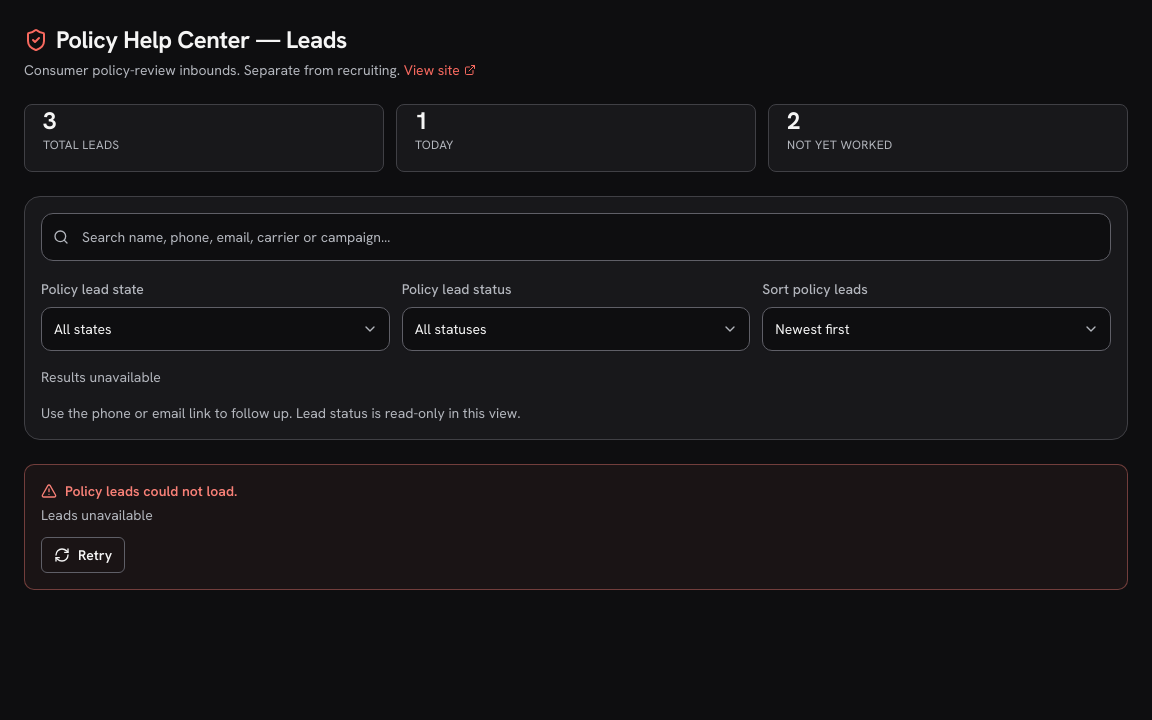
Test case: consumer policy lead worklist › reserves the real empty state for a successful empty read and retries a failed lead read
Expected: the text "Leads unavailable" is shown, [41,506,153,524]
Expected: the text "No policy-review leads yet" is not shown
Click the button "Retry": (83, 555) [41,537,125,573]
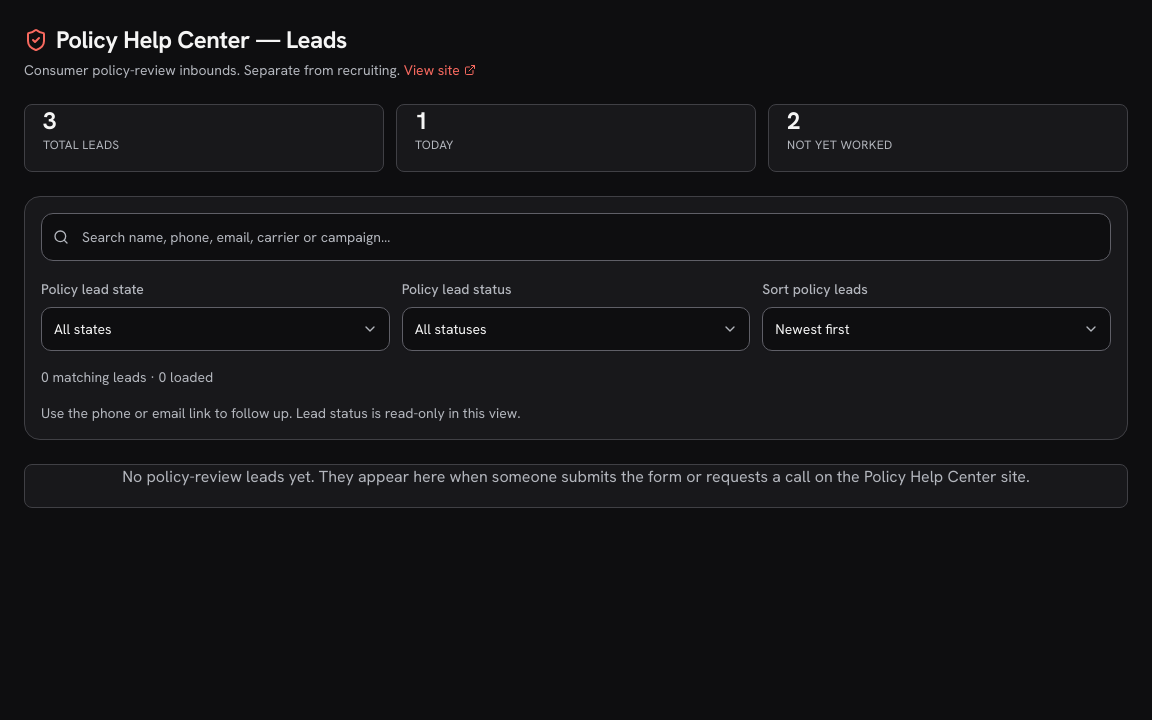
Now the text "No policy-review leads yet" is shown, box [122,466,1030,487]
